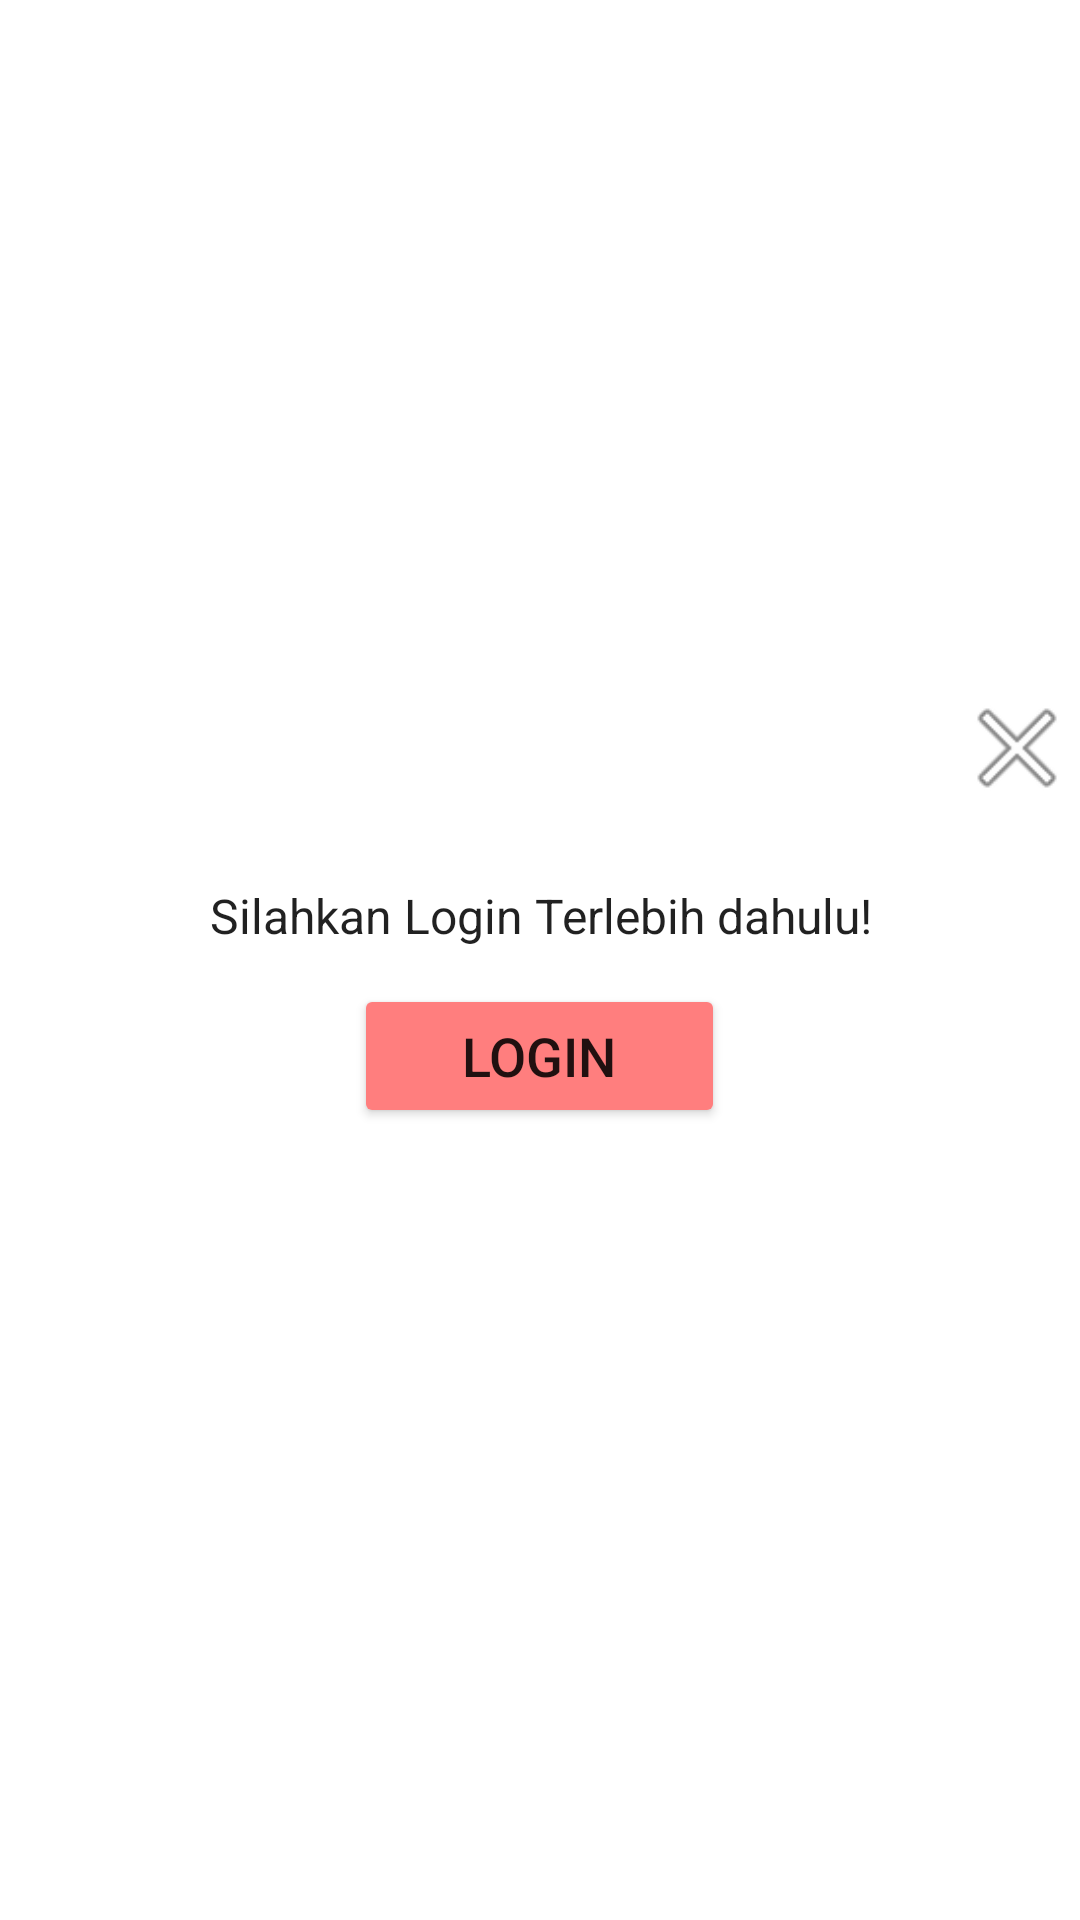

Where icons sit on this 1080*1920 app screen, as BBox(x1, y1, x2, y2):
close clear cancel: BBox(977, 708, 1057, 788)
